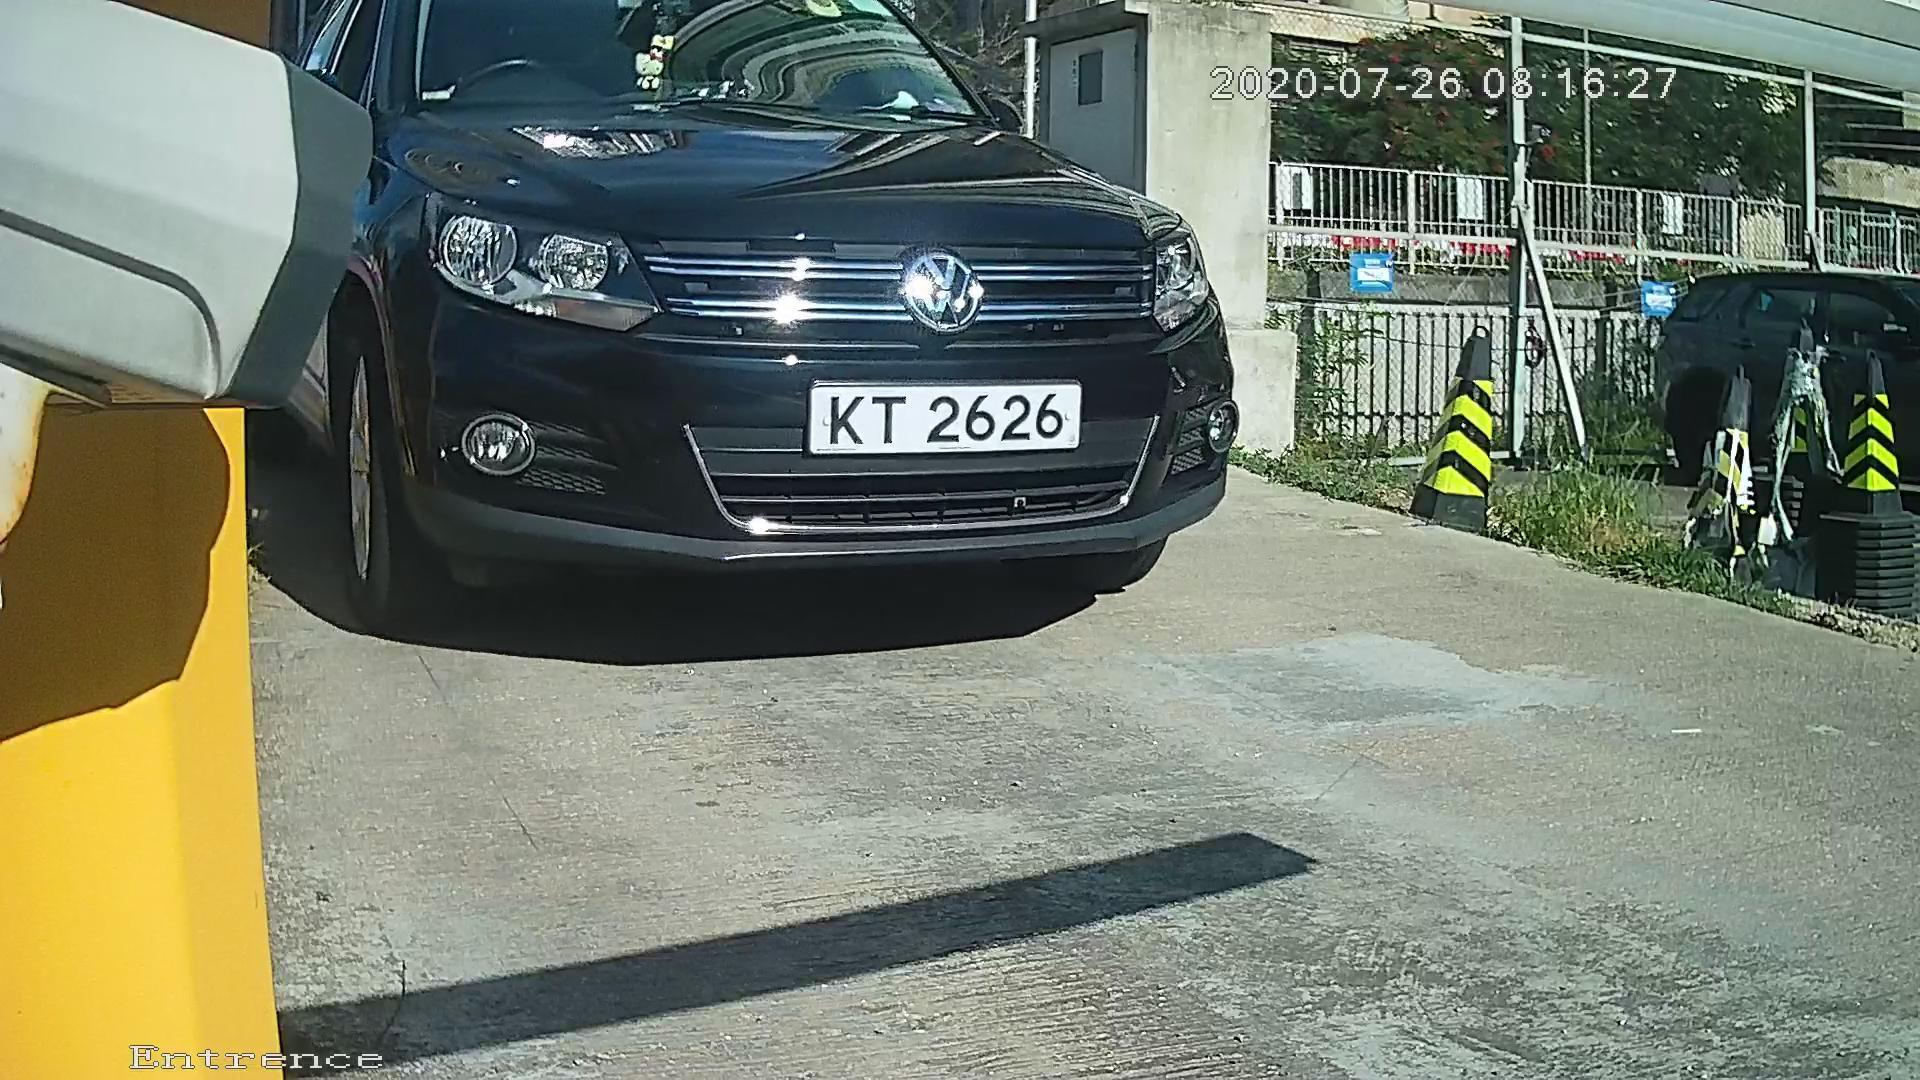privatecar: (215, 5, 1295, 647)
